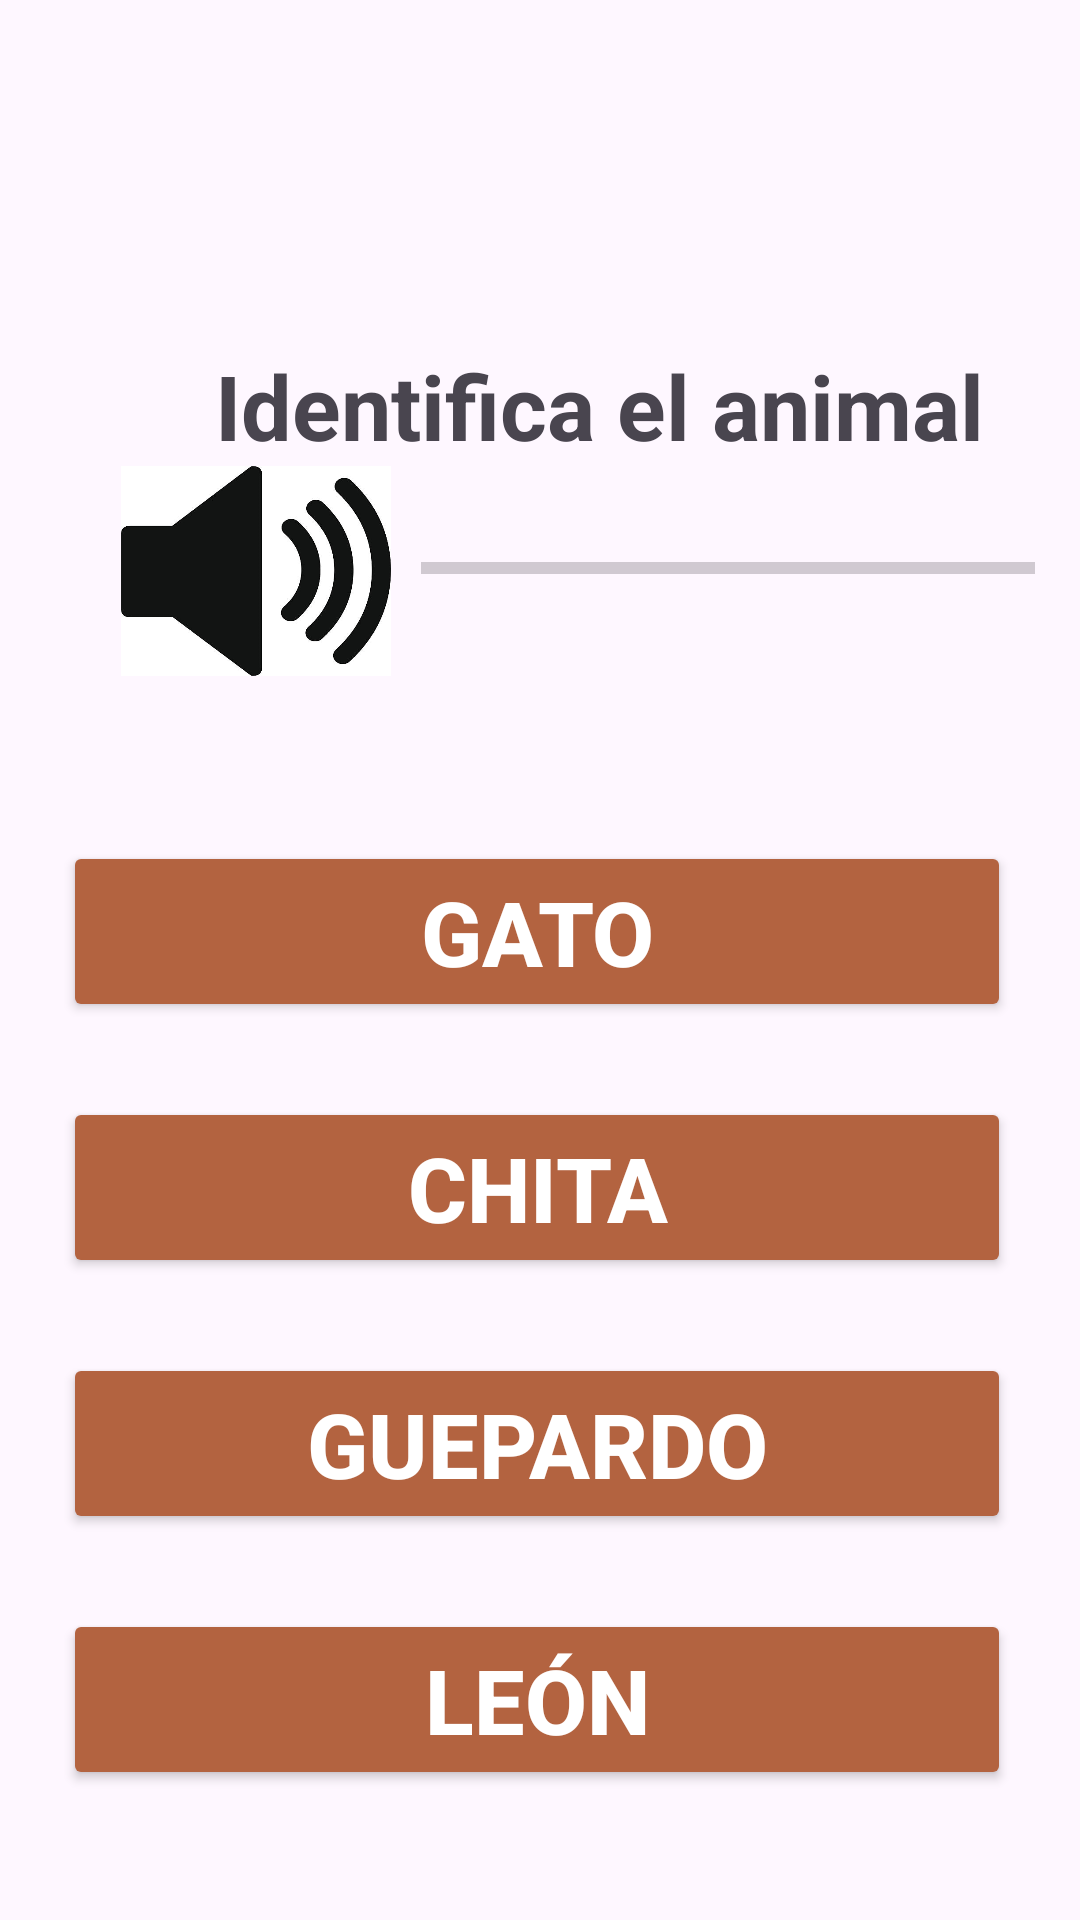

Locate icon controls on the screen. Image size 1080px×1920px, boxes as BBox(x1, y1, x2, y2).
audio: BBox(121, 466, 391, 676)
